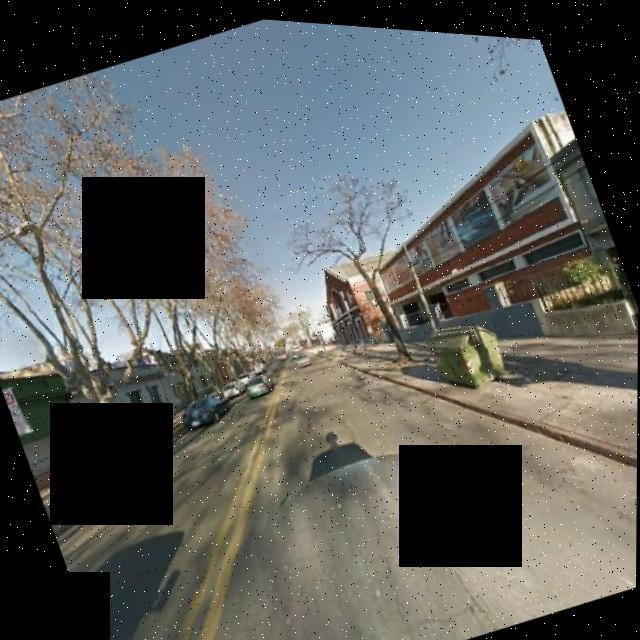bin: (410, 290, 525, 408)
